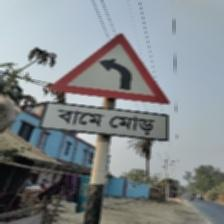Left-Turn: (44, 33, 173, 143)
